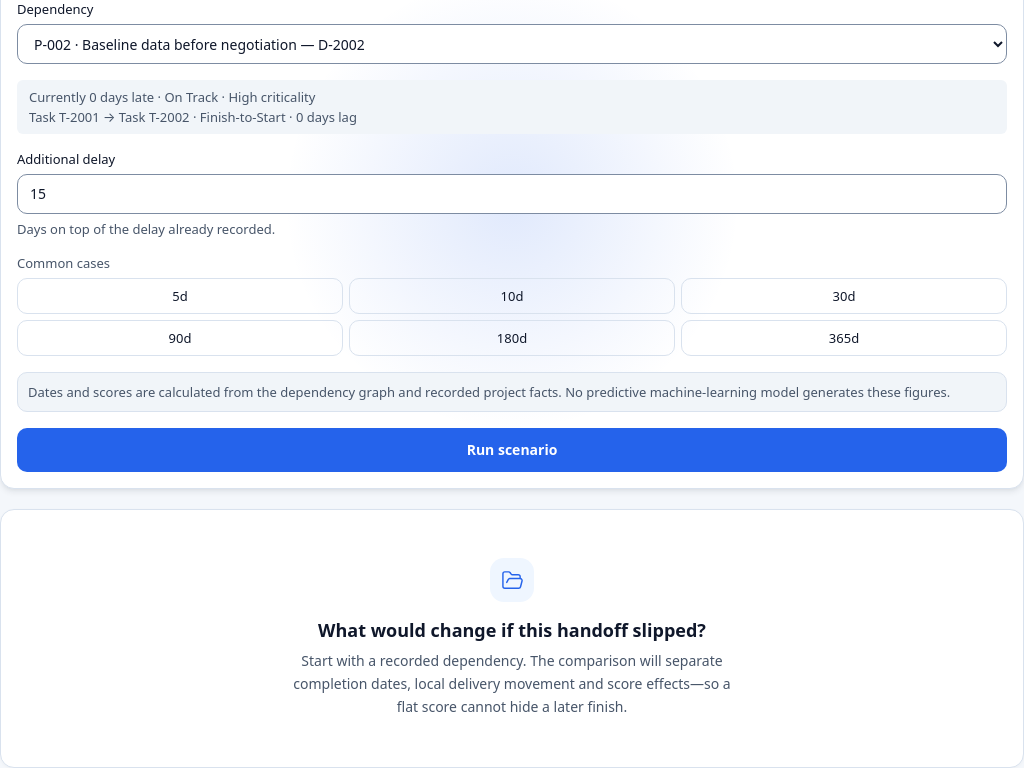
ScenariosPage › explains raw factor points and their weighted overall contribution
(page scrolled)
Click the button "Run scenario". click: [512, 450]
box: [17, 428, 1007, 472]
(page scrolled)
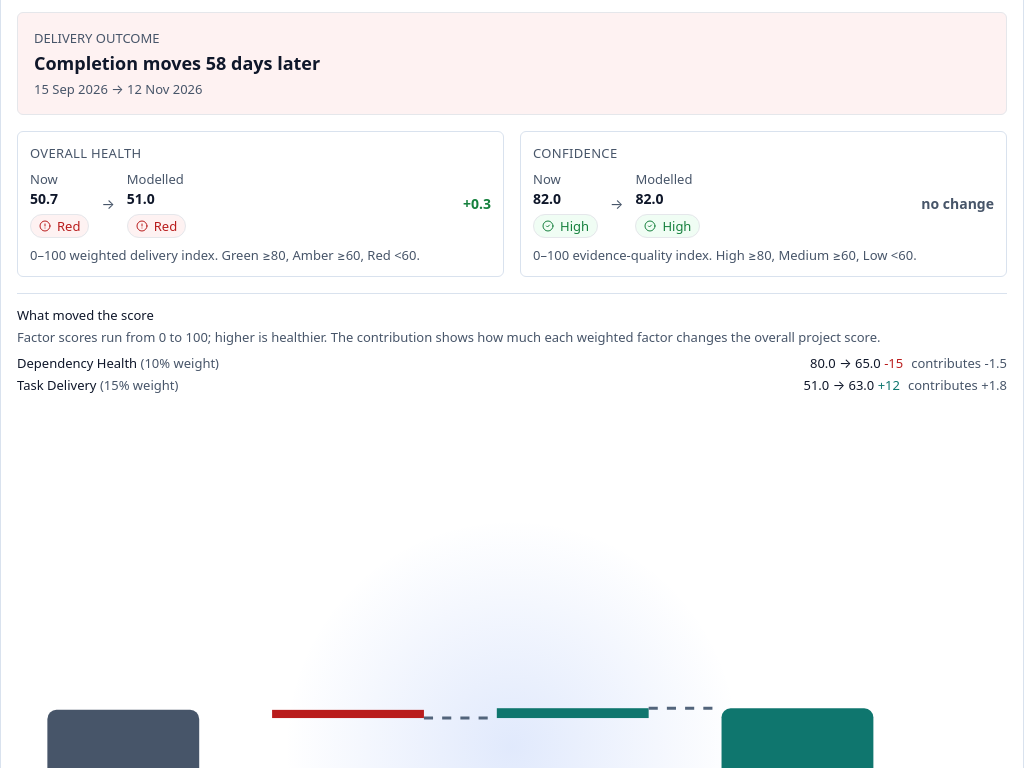
Expected: the text "Factor scores run from 0 to 100" is shown, [17, 328, 880, 346]
Expected: the text "Task Delivery (15% weight)" is shown, [17, 376, 178, 394]
Expected: the text "contributes +1.8" is shown, [908, 376, 1007, 394]
